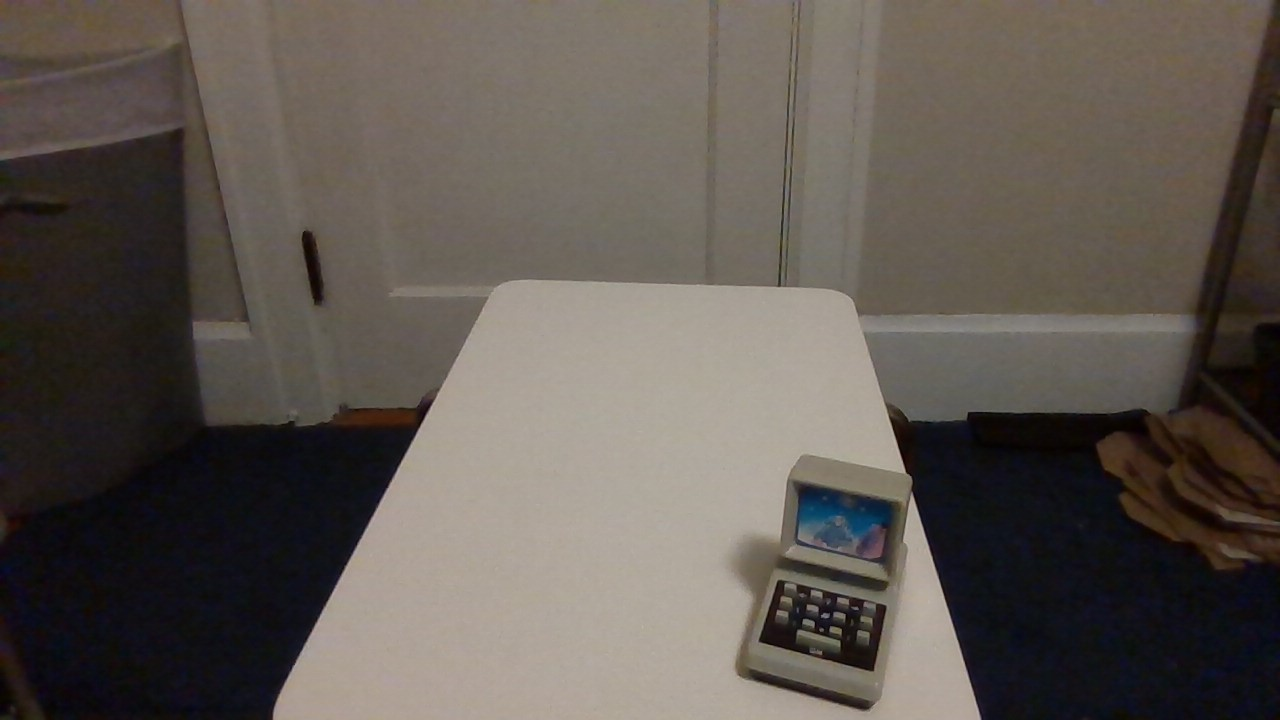Toy: (730, 437, 936, 717)
